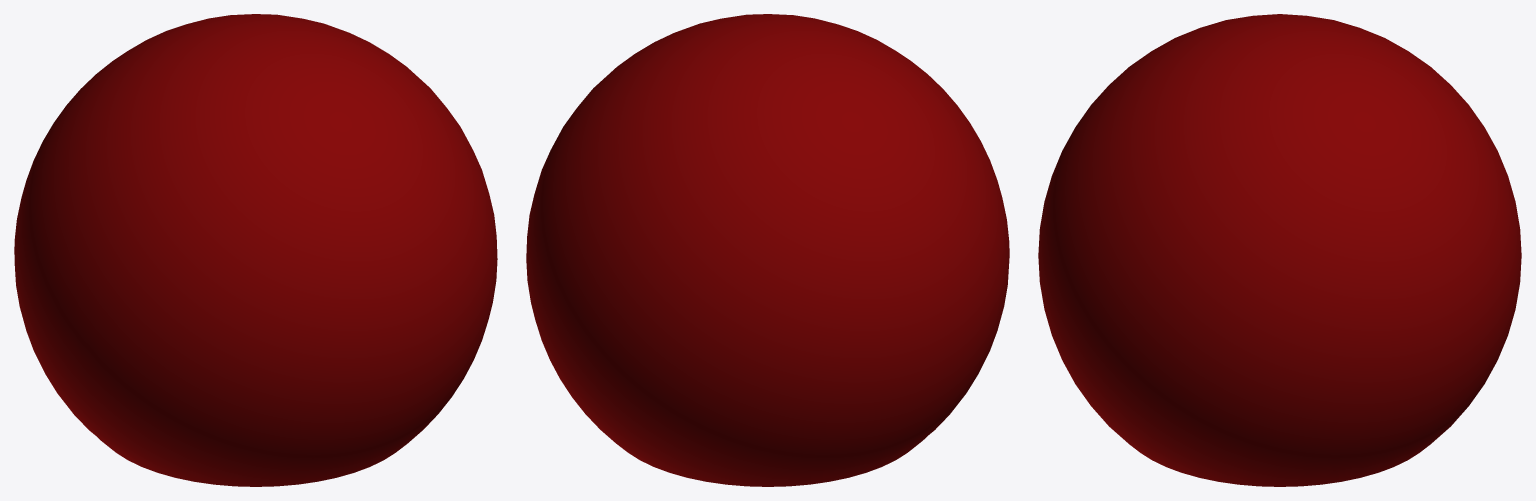
Rendered from link_3_render.glb.
3 renders of one model, left to right at view 1: azimuth 30°, elevation 25°; view 2: azimuth 150°, elevation 25°; view 3: azimuth 270°, elevation 25°, orthographic.
Parts seen in each view (by area): view 1: NAUO1; view 2: NAUO1; view 3: NAUO1.
Boxes of the visible parts, bbox=[...] form: NAUO1: bbox=[14, 14, 497, 486]; NAUO1: bbox=[526, 14, 1009, 486]; NAUO1: bbox=[1038, 14, 1521, 486].
Size of the model in its own units: 0.06 by 0.0524 by 0.06.
